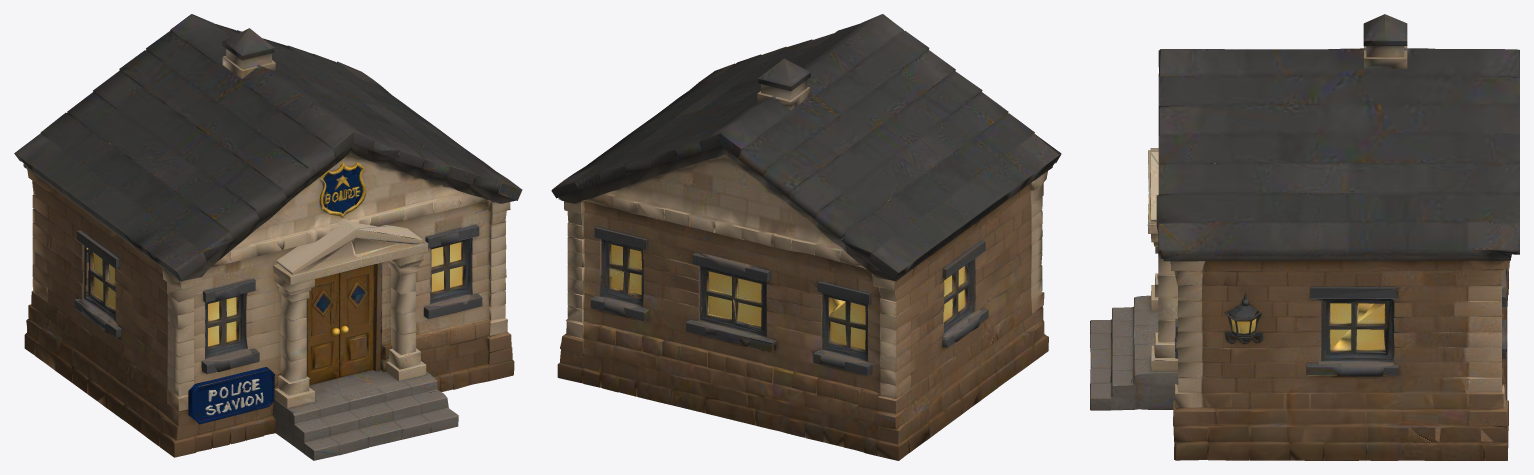
Rendered from police_station.glb.
3 views of the same model, side by side, from view 1: azimuth 30°, elevation 25°; view 2: azimuth 150°, elevation 25°; view 3: azimuth 270°, elevation 25° (orthographic). The views are drawn at different scales.
Visible parts, largest first — view 1: geometry_0; view 2: geometry_0; view 3: geometry_0.
Part boxes in pixels (x1,y1,x2,y2): geometry_0: (14,14,522,460); geometry_0: (551,14,1061,460); geometry_0: (1090,14,1519,460).
Bounding box in the file's own units: 0.9487 × 0.8281 × 0.9082.
1 material, 1 textured.
